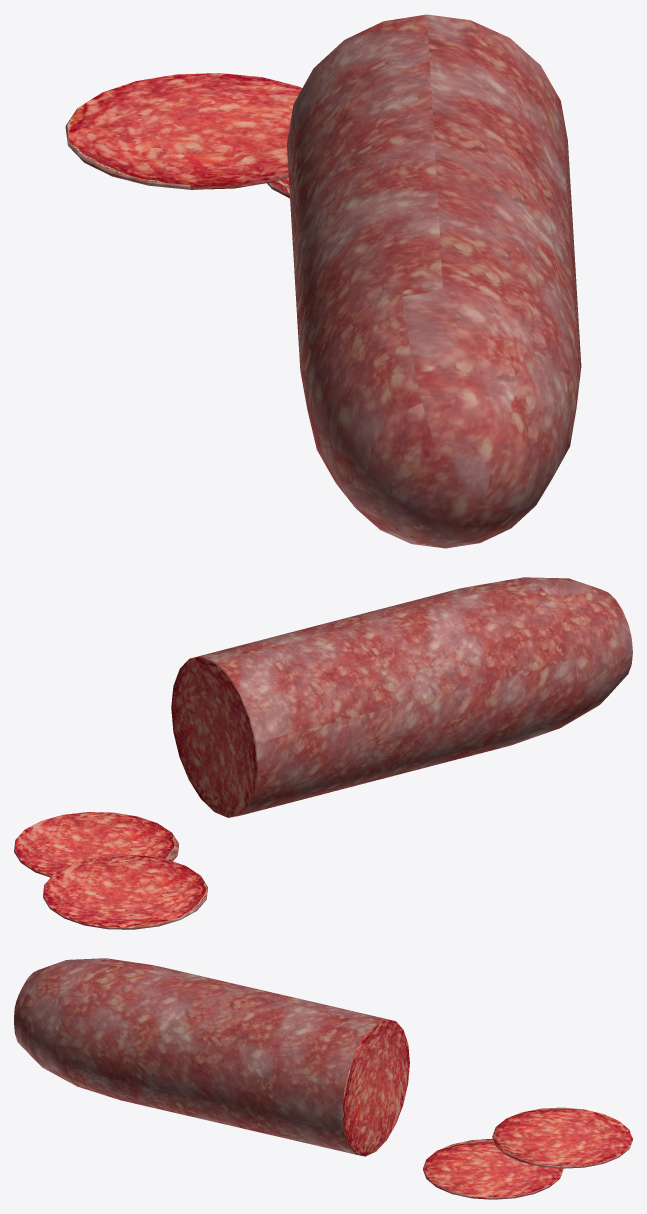
The model's file is salami.obj.
The picture shows the model from 3 angles, top to bottom: view 1: azimuth 30°, elevation 25°; view 2: azimuth 150°, elevation 25°; view 3: azimuth 270°, elevation 25°; orthographic projection. The views are drawn at different scales.
Parts seen in each view (by area): view 1: salami; view 2: salami; view 3: salami.
Boxes of the visible parts, box(x1,y1,x2,y2) form: salami: box(65, 14, 581, 548); salami: box(14, 577, 632, 929); salami: box(14, 958, 632, 1199).
Size of the model in its own units: 2.42 by 1 by 4.4.
1 material, 1 textured.
